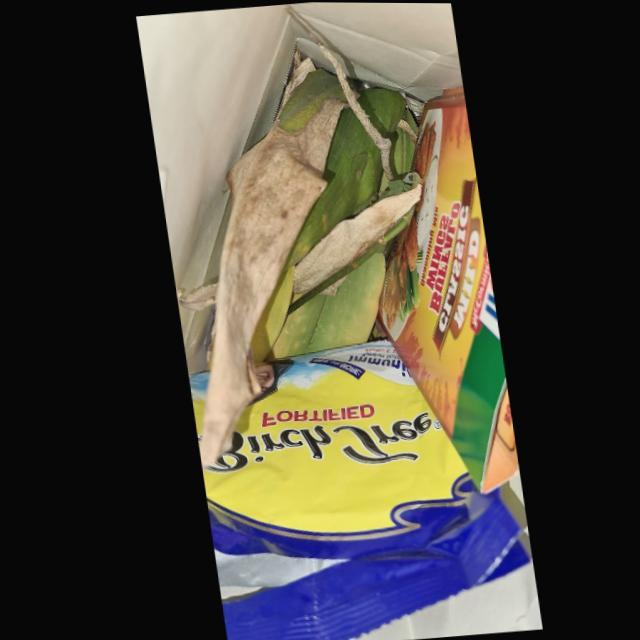biowaste: (194, 97, 342, 464), (287, 182, 419, 302)
wrapper: (195, 339, 522, 640), (374, 83, 513, 493)
